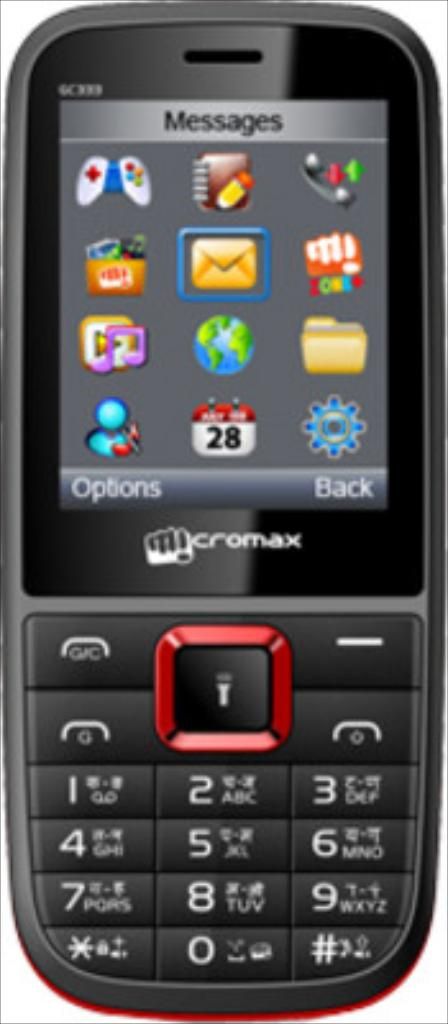mobile phone: (0, 0, 445, 1021)
